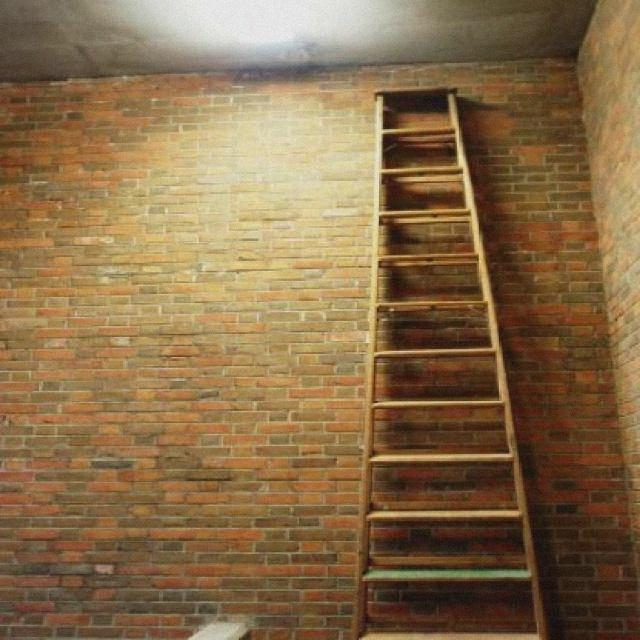stair: (348, 83, 554, 639)
